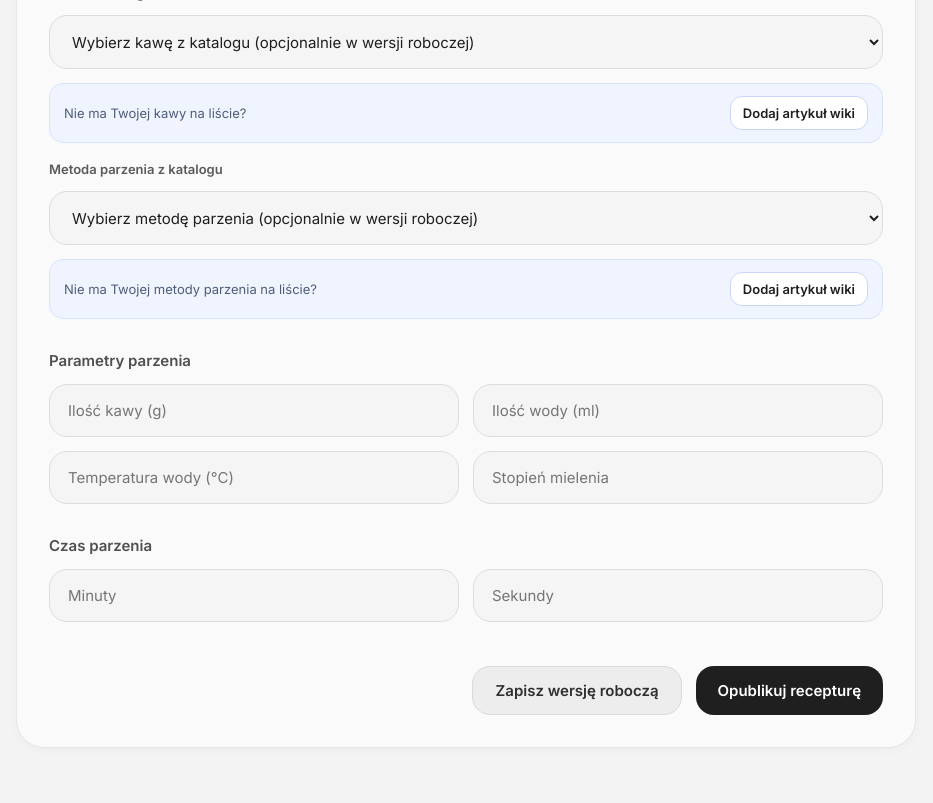
Scenario: RecipesForm › shows validation error when saving empty draft
(page scrolled)
Click the button "Zapisz wersję roboczą": [577, 690] box [472,666,682,715]
(page scrolled)
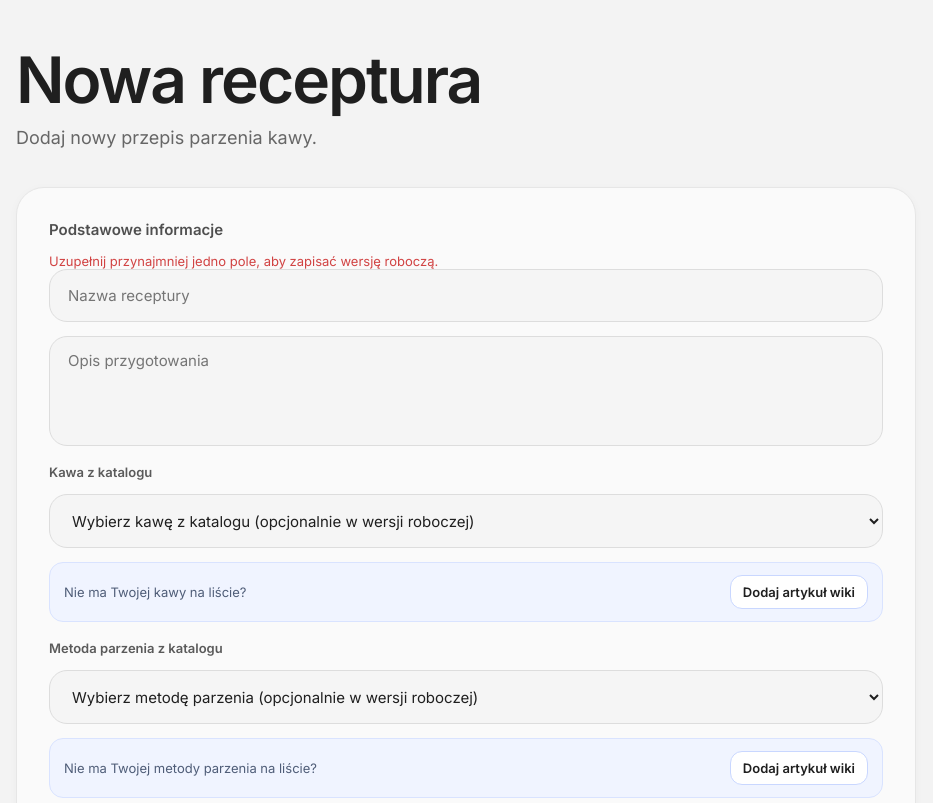
Check: the text "Uzupełnij przynajmniej jedno pole, aby zapisać wersję roboczą." is shown, box [49,253,438,269]
